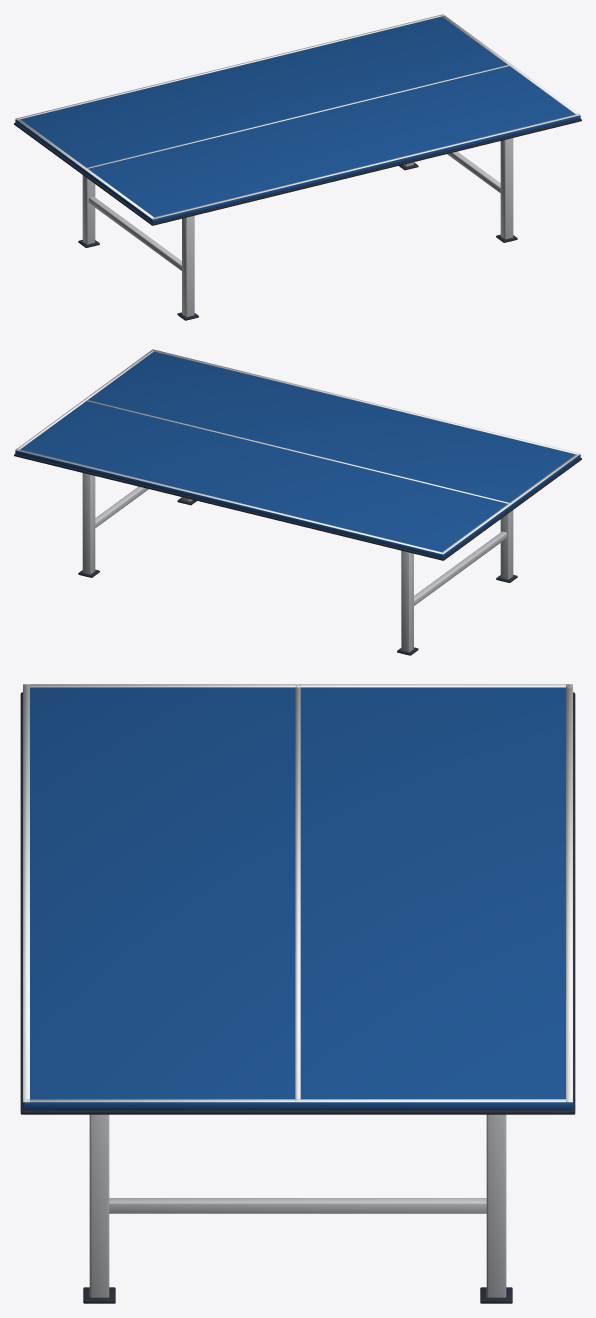
Rendered from Table.fbx.
3 renders of one model, top to bottom at view 1: azimuth 30°, elevation 25°; view 2: azimuth 150°, elevation 25°; view 3: azimuth 270°, elevation 25°, orthographic. The views are drawn at different scales.
Parts seen in each view (by area): view 1: Table; view 2: Table; view 3: Table.
Boxes of the visible parts, left/top/right/bottom form: Table: left=14, top=14, right=581, bottom=320; Table: left=14, top=349, right=581, bottom=655; Table: left=20, top=684, right=575, bottom=1303.
Size of the model in its own units: 2.75 by 0.7687 by 1.54.
